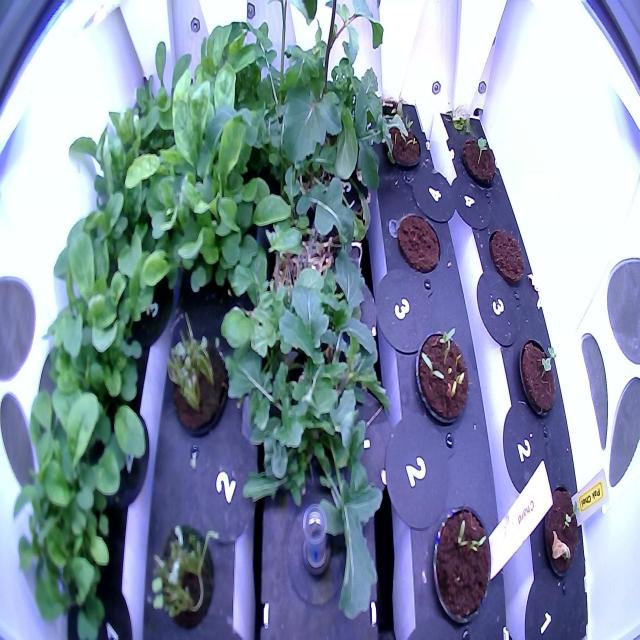germination: (426, 498, 494, 633), (413, 321, 472, 430), (538, 478, 586, 586), (513, 332, 563, 420), (375, 101, 424, 176), (456, 130, 500, 192)
pod: (393, 206, 444, 276), (484, 224, 529, 289)
